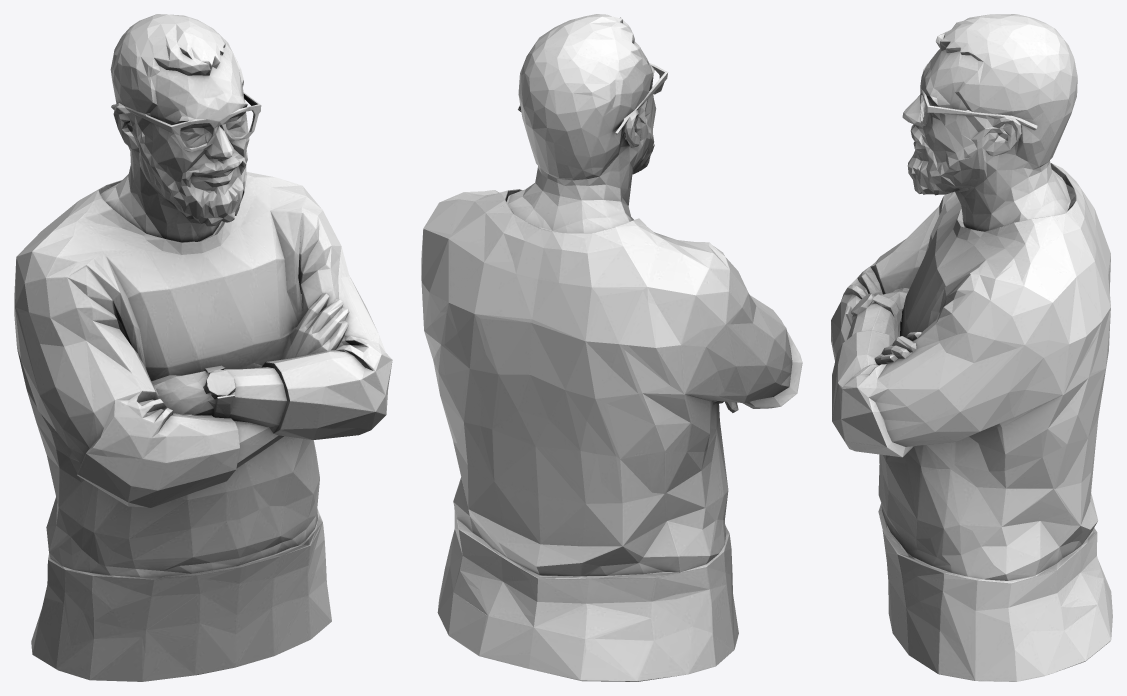
Rendered from cd-texture.glb.
3 views of the same model, side by side, from view 1: azimuth 30°, elevation 25°; view 2: azimuth 150°, elevation 25°; view 3: azimuth 270°, elevation 25° (orthographic).
Visible parts, largest first — view 1: Mesh_0_n3d; view 2: Mesh_0_n3d; view 3: Mesh_0_n3d.
Part boxes in pixels (left/top/right/bottom): Mesh_0_n3d: left=14, top=14, right=392, bottom=681; Mesh_0_n3d: left=421, top=14, right=802, bottom=681; Mesh_0_n3d: left=831, top=14, right=1112, bottom=681.
Size of the model in its own units: 1.05 by 1.9 by 0.8136.
1 material, 1 textured.
